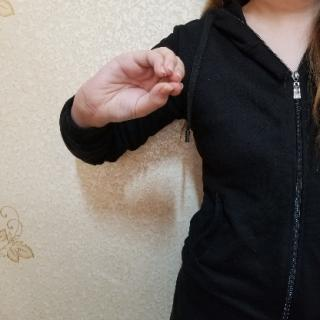HA: (70, 42, 194, 128)
